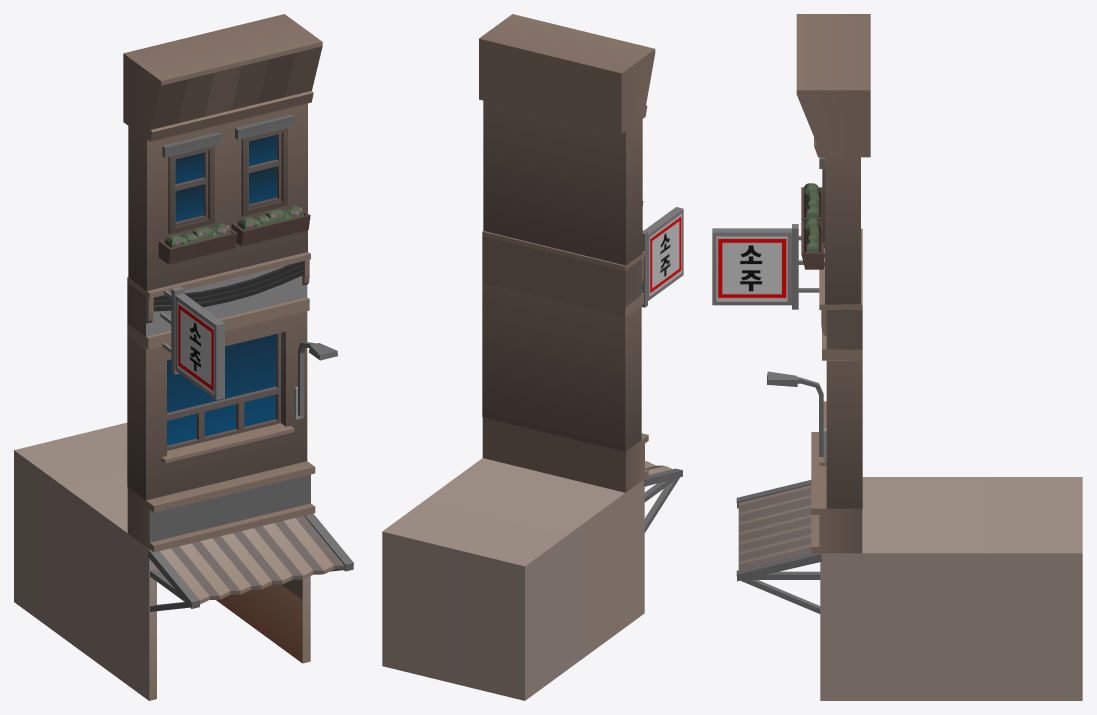
Rendered from B02_Facade_04_B.fbx.
The picture shows the model from 3 angles, left to right: view 1: azimuth 30°, elevation 25°; view 2: azimuth 150°, elevation 25°; view 3: azimuth 270°, elevation 25°; orthographic projection. The views are drawn at different scales.
Visible parts, largest first — view 1: B02_Facade_04_B; view 2: B02_Facade_04_B; view 3: B02_Facade_04_B.
Boxes of the visible parts, x1,y1,x2,y2 form: B02_Facade_04_B: (14,14,353,700); B02_Facade_04_B: (382,14,683,700); B02_Facade_04_B: (712,14,1082,700).
Bounding box in the file's own units: 502 × 1862 × 1024.
